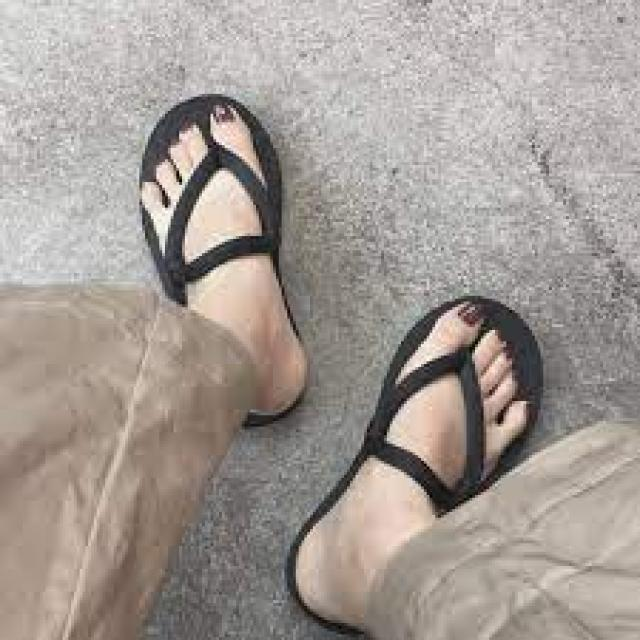Sandals: (68, 65, 553, 630)
